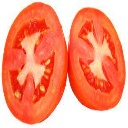tomato: (2, 1, 67, 124), (68, 8, 125, 111)
